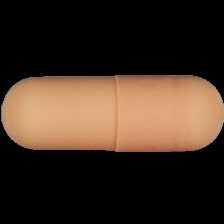63629-2593: (0, 0, 224, 224)
